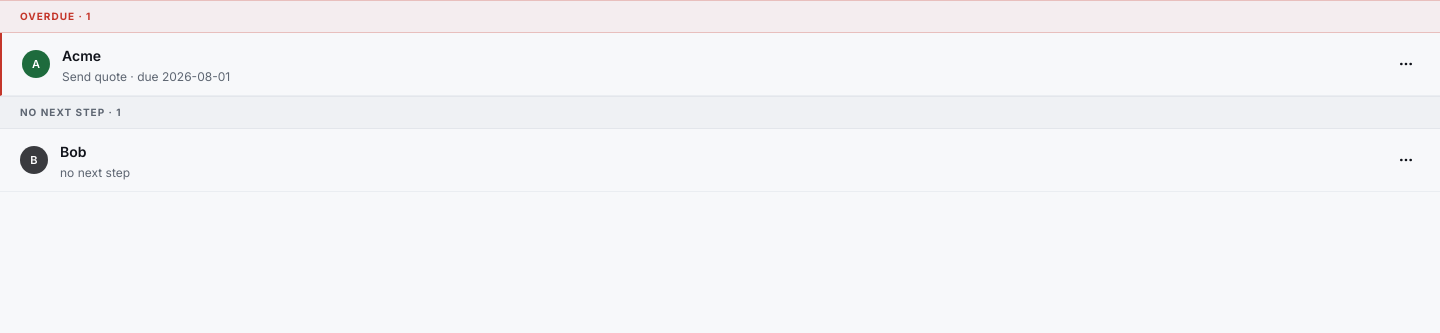
Test: TodayQueue › keeps the menu open and shows an error when the action rejects
What coordinates should you click on to do the following:
click the button named "Row actions" in the row of "Send quote · due 2026-08-01"
I would click on:
 (1406, 64)
Its box is [1392, 50, 1420, 78].
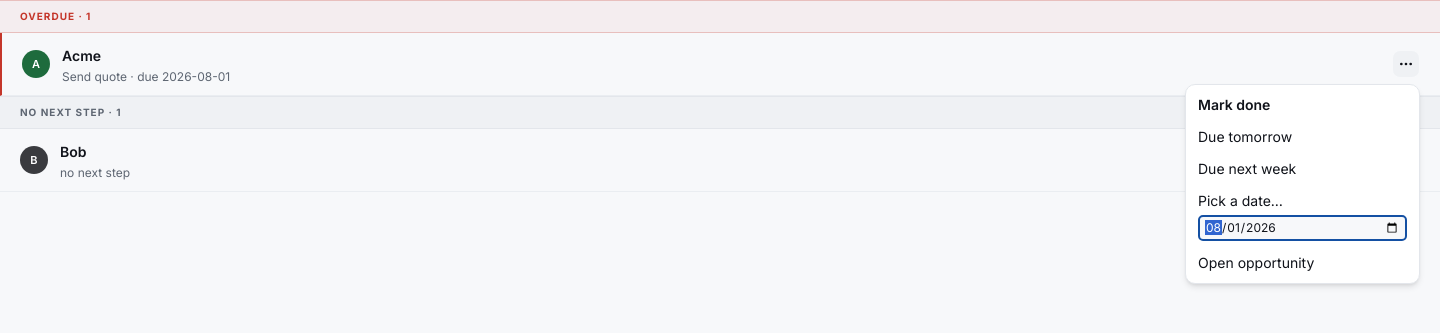
What coordinates should you click on to do the following:
click the menu item "Mark done"
I would click on:
 (1234, 104)
Its box is [1198, 96, 1270, 113].
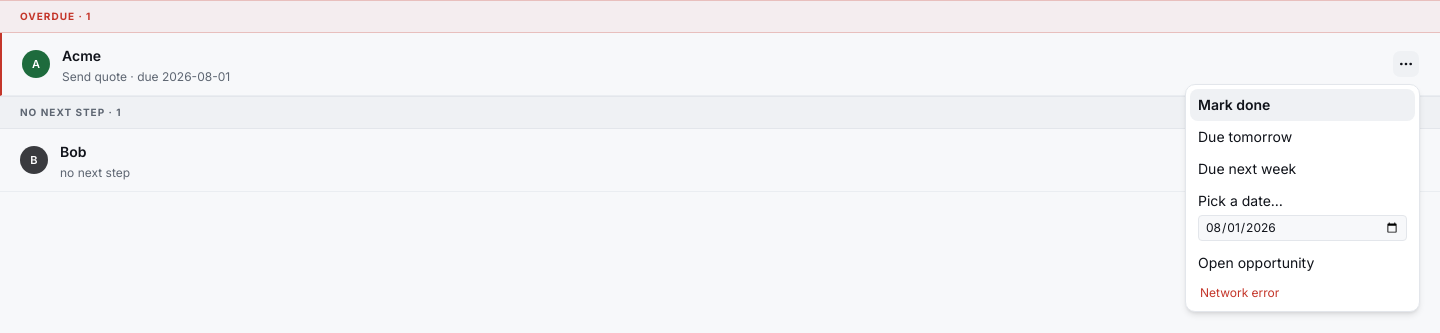
Expected: the menu item "Mark done" is shown, [1190, 89, 1415, 121]
Expected: the message reads "Network error", [1200, 285, 1279, 300]
